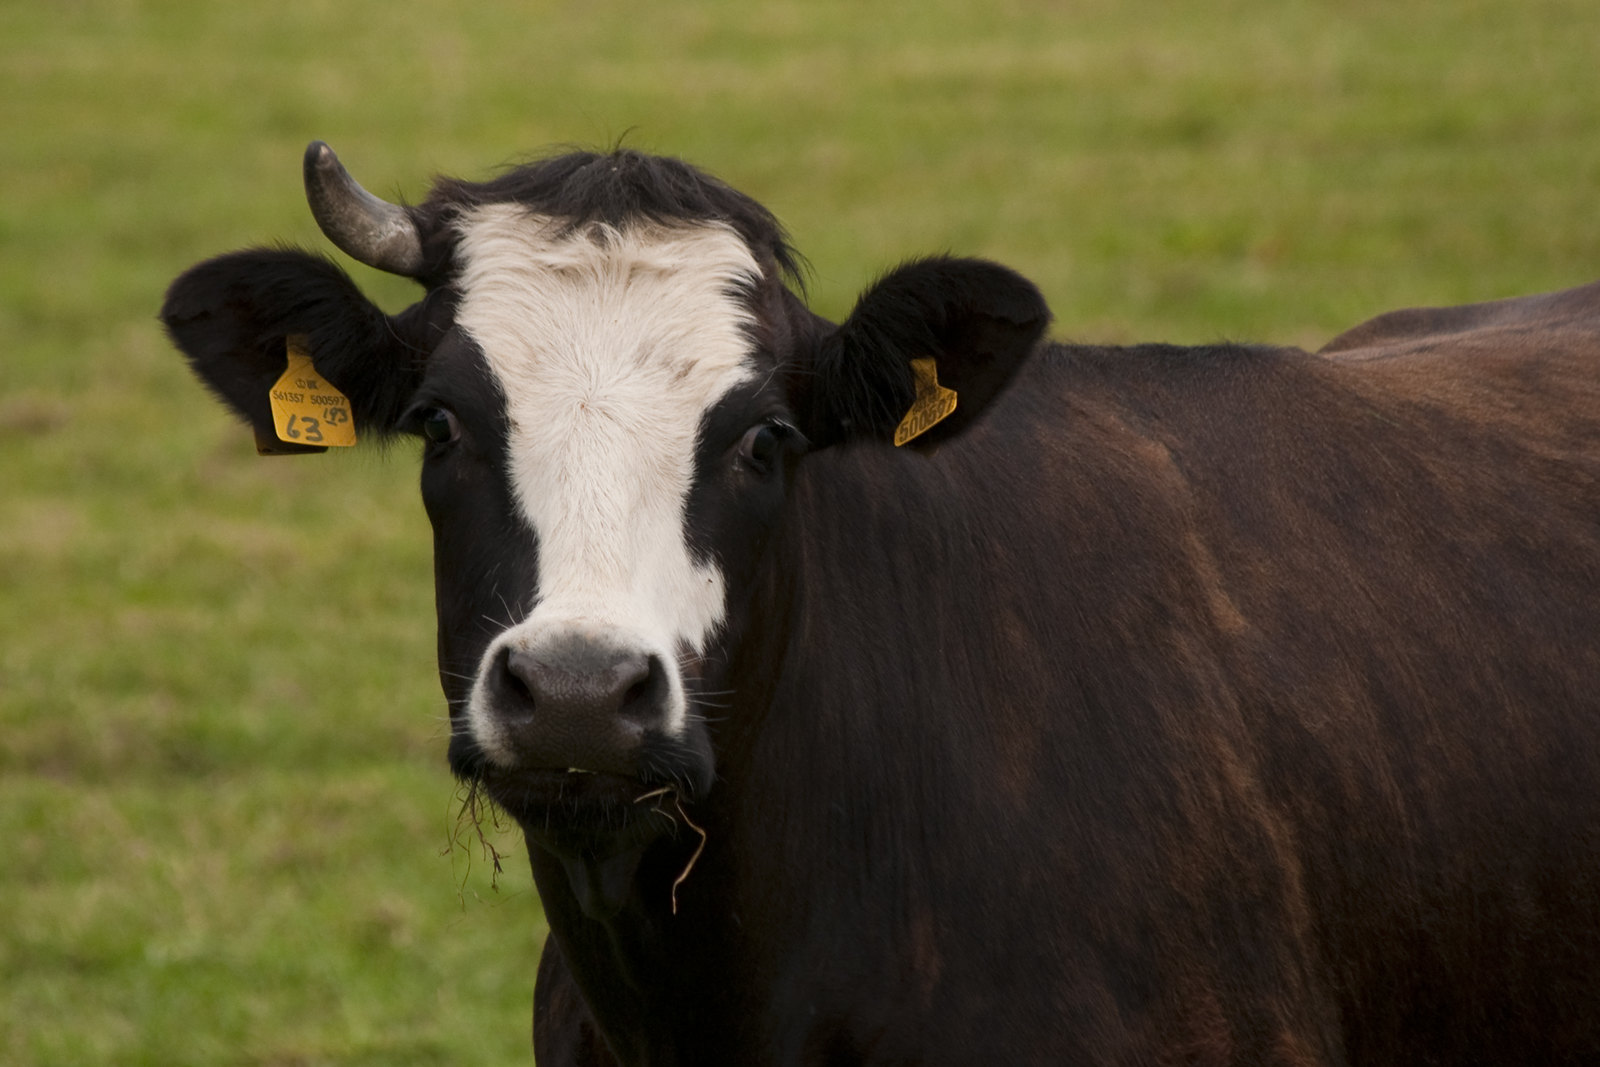cow: (160, 135, 1590, 1067)
